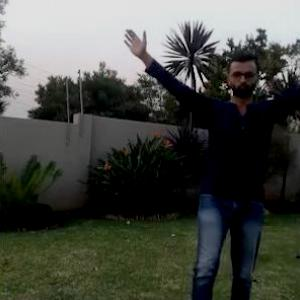takeoff: (130, 36, 299, 299)
